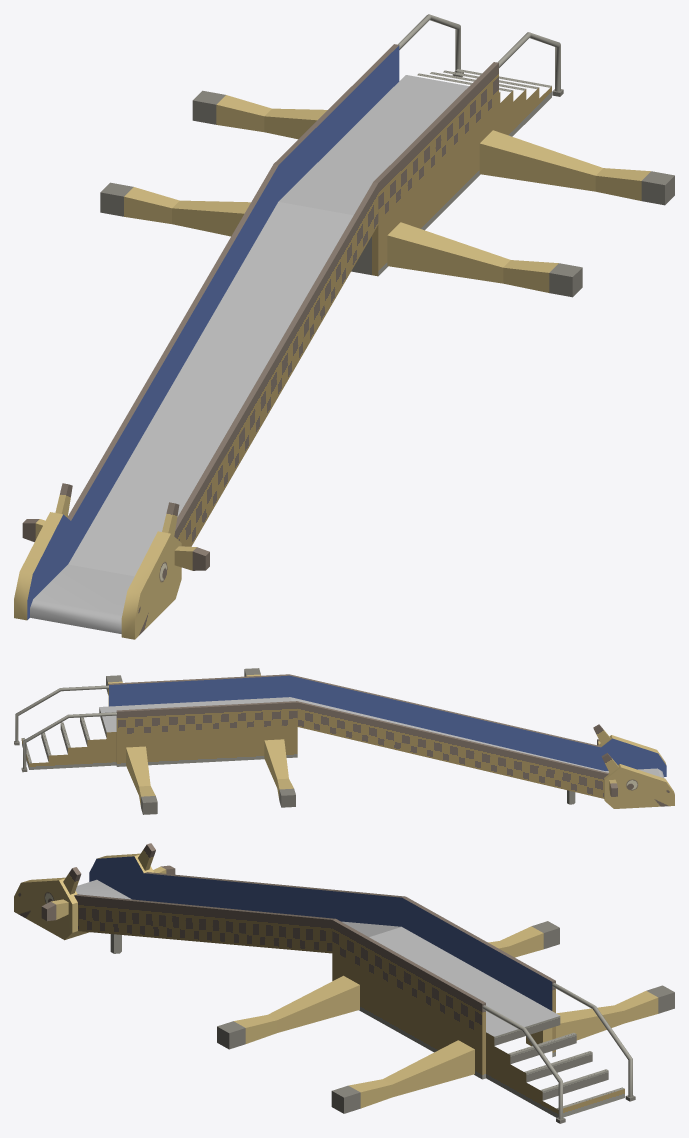
File: kd_stage_135ebf_0_69.glb
3 views of the same model, one above another, from view 1: azimuth 30°, elevation 25°; view 2: azimuth 150°, elevation 25°; view 3: azimuth 270°, elevation 25° (orthographic). The views are drawn at different scales.
Visible parts, largest first — view 1: kd_stage_135ebf_0_69; view 2: kd_stage_135ebf_0_69; view 3: kd_stage_135ebf_0_69.
Part boxes in pixels (bbox=[...]): kd_stage_135ebf_0_69: bbox=[14, 14, 674, 639]; kd_stage_135ebf_0_69: bbox=[14, 668, 674, 814]; kd_stage_135ebf_0_69: bbox=[14, 843, 674, 1123].
Bounding box in the file's own units: 3.37 × 0.79 × 2.86.
1 material, 1 textured.
